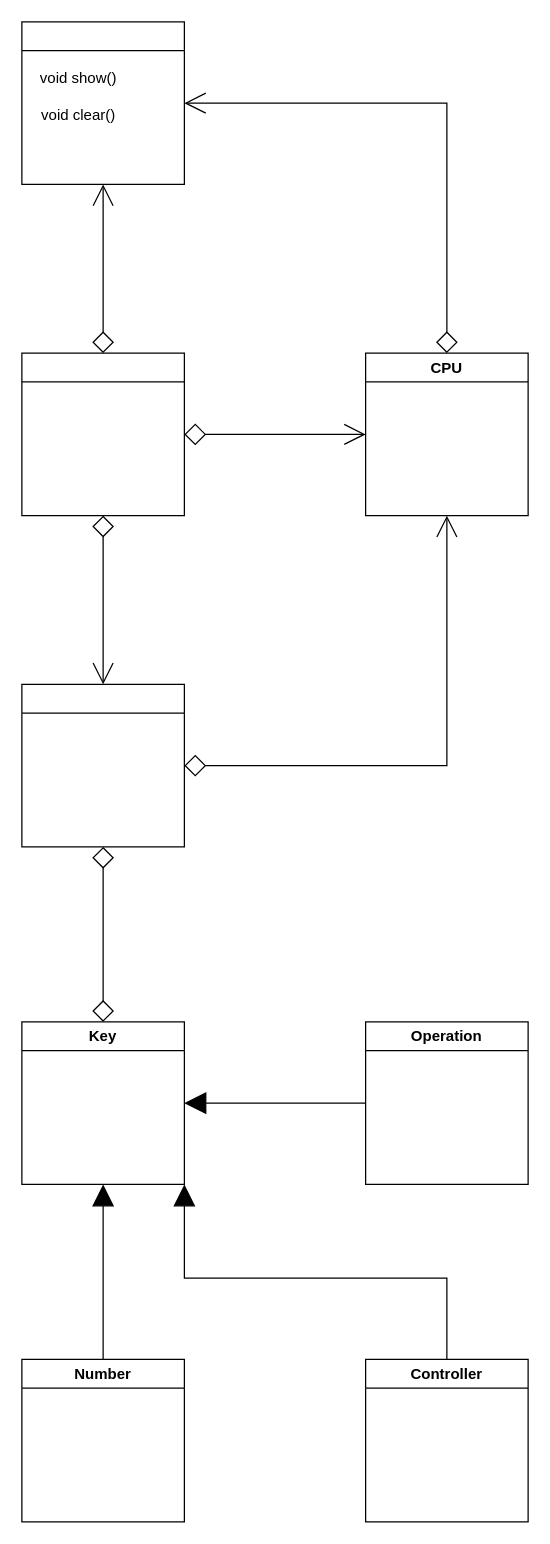
Image size: 550x1544. Some labels were removed from this diagram. The shapes that lost their labels are listed below. From the top down, each one's box as (x1, y1, x2, y2) in pixels, then its label:
(21, 21, 184, 184): Display
(21, 352, 184, 516): Calculator
(21, 683, 184, 847): Keyboard
